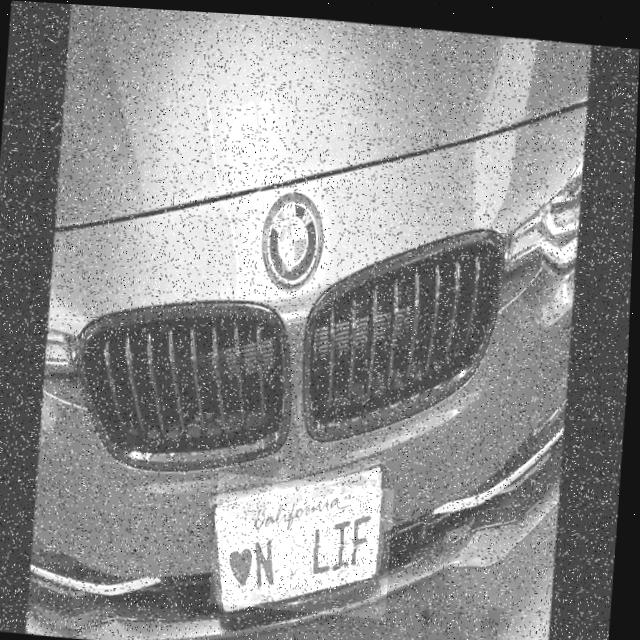LicensePlate: (214, 469, 398, 614)
